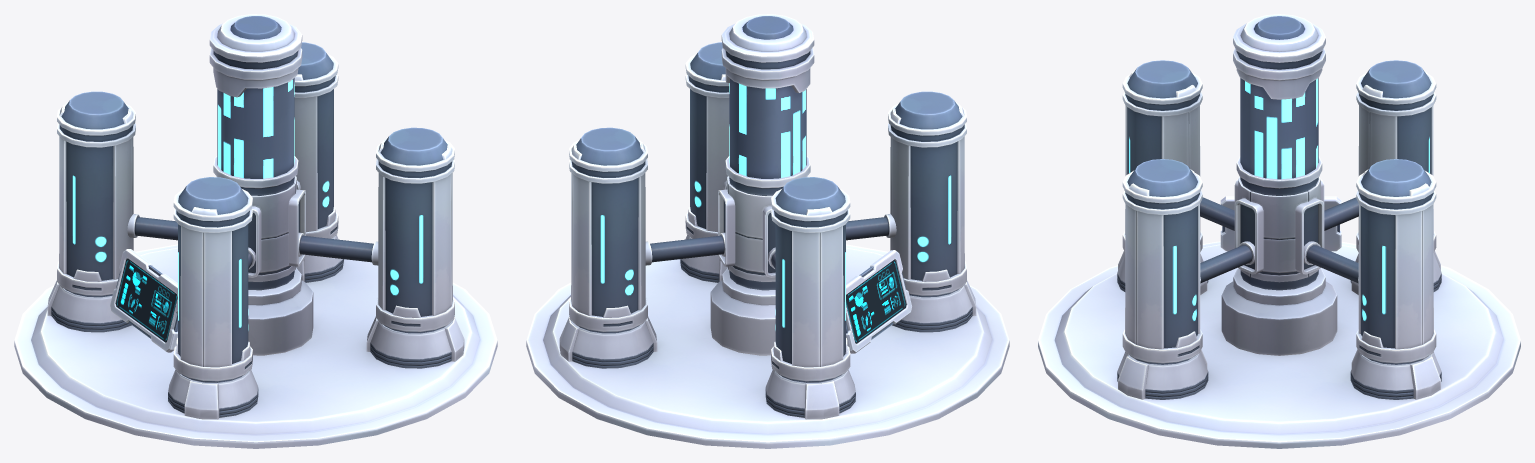
Rendered from obj_lab02.gltf.
3 views of the same model, side by side, from view 1: azimuth 30°, elevation 25°; view 2: azimuth 150°, elevation 25°; view 3: azimuth 270°, elevation 25° (orthographic).
Visible parts, largest first — view 1: obj_lab02; view 2: obj_lab02; view 3: obj_lab02.
Part boxes in pixels (box(x1,y1,x2,y2)): obj_lab02: box(14, 14, 497, 448); obj_lab02: box(526, 14, 1009, 448); obj_lab02: box(1038, 14, 1520, 448).
Size of what is drawn, in the model's own units: 6.51 by 4.79 by 6.51.
Materials: 2 (2 with a texture image).
